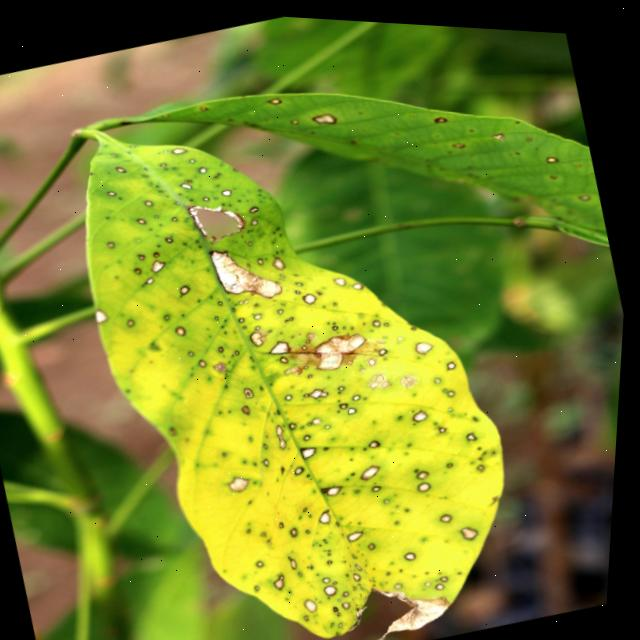Colletotrichum: (466, 517, 485, 535), (417, 332, 437, 349), (152, 254, 172, 271), (309, 591, 325, 609), (278, 568, 294, 586), (415, 402, 434, 417), (305, 439, 323, 454), (331, 478, 350, 492), (304, 286, 321, 301), (274, 250, 289, 267), (323, 504, 338, 520), (352, 524, 371, 536), (330, 578, 345, 591), (336, 270, 350, 283), (420, 462, 435, 474), (422, 474, 437, 486), (444, 505, 459, 517), (115, 161, 130, 173), (172, 142, 188, 153), (247, 381, 259, 394), (178, 321, 190, 334), (434, 108, 449, 118), (410, 544, 423, 555), (222, 183, 235, 194), (182, 281, 195, 292), (181, 177, 195, 187), (354, 276, 367, 286), (295, 552, 305, 565), (470, 424, 482, 434), (299, 460, 311, 470), (245, 400, 255, 412), (547, 147, 560, 156), (373, 433, 386, 442), (358, 565, 368, 576), (138, 213, 149, 223), (201, 354, 211, 365), (295, 522, 305, 532), (374, 313, 385, 322), (450, 354, 461, 363), (348, 595, 358, 604), (343, 396, 353, 405), (317, 411, 327, 420), (250, 201, 261, 209), (451, 382, 460, 391), (267, 453, 276, 462), (351, 401, 361, 409), (328, 570, 338, 578), (382, 341, 391, 349), (442, 575, 451, 583), (373, 536, 382, 544), (259, 252, 267, 261), (200, 162, 209, 170), (168, 232, 176, 241), (146, 196, 155, 204), (148, 273, 157, 281), (307, 428, 316, 436), (377, 479, 387, 486), (356, 388, 366, 395), (361, 557, 369, 565), (289, 388, 297, 396), (298, 275, 306, 282), (447, 569, 455, 576), (253, 214, 261, 221), (221, 341, 229, 348), (156, 247, 163, 255), (293, 417, 301, 424), (443, 420, 452, 426), (400, 576, 409, 582), (339, 599, 346, 606), (141, 250, 148, 257), (111, 188, 119, 194), (297, 284, 304, 290), (350, 585, 357, 591), (191, 154, 198, 160), (335, 319, 342, 325), (204, 192, 212, 197), (345, 616, 351, 622), (249, 236, 256, 241), (342, 380, 349, 385), (280, 304, 287, 309), (452, 456, 458, 461), (343, 606, 349, 611), (220, 296, 226, 301), (308, 501, 313, 507), (242, 313, 248, 318), (258, 320, 264, 325), (334, 554, 339, 559), (235, 303, 240, 308), (312, 416, 317, 420), (292, 311, 297, 315), (162, 160, 168, 163), (448, 590, 453, 593), (189, 176, 194, 179), (452, 593, 456, 596), (339, 576, 343, 579), (329, 441, 333, 444), (330, 419, 334, 422), (312, 469, 316, 472)
Leaf-Blight: (358, 567, 467, 640), (211, 232, 288, 306), (315, 323, 375, 369)
